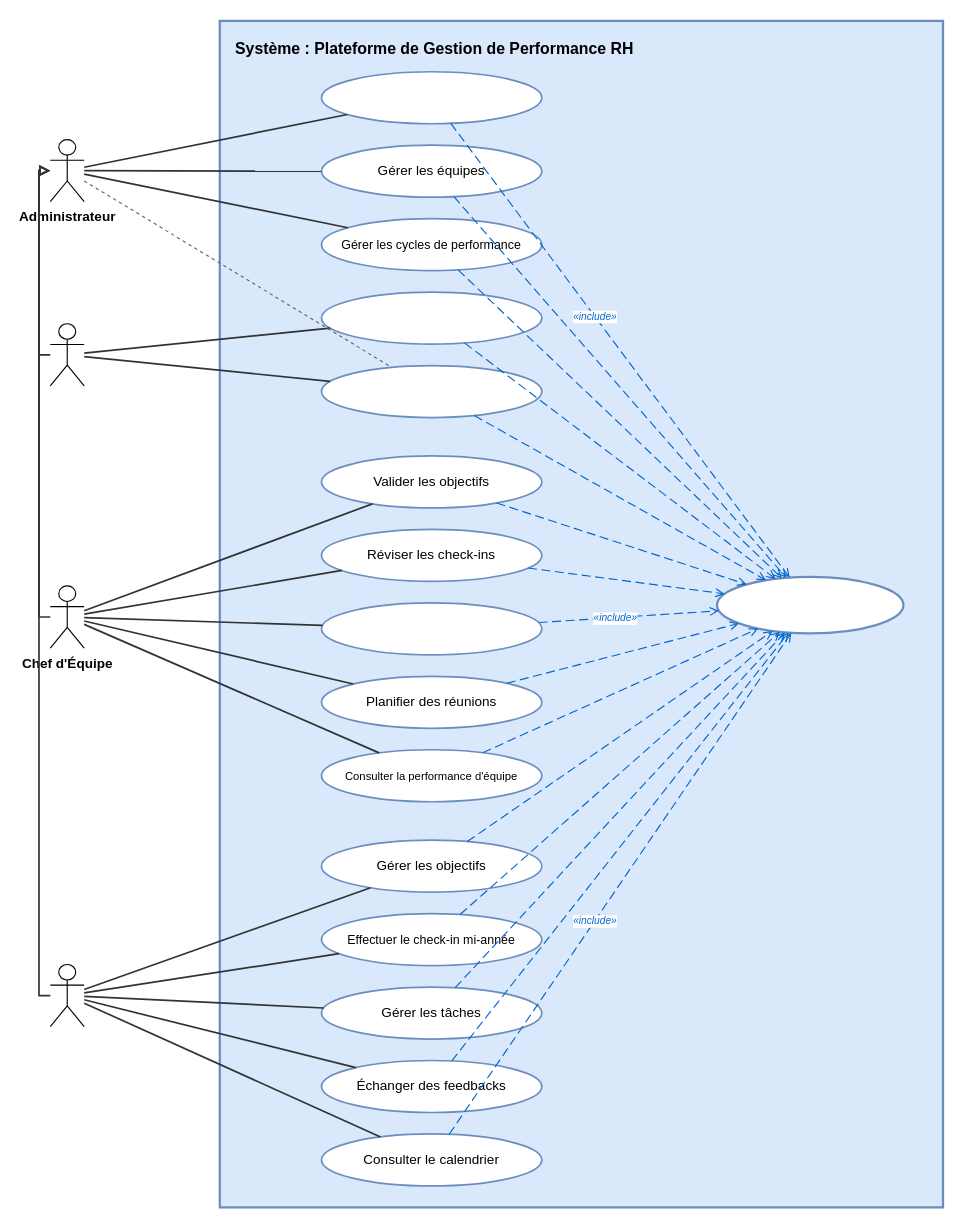
Some shapes in this 964 by 1227 pixel diagram are drawn without their labels. The centre of each missing label's shape, as x and y in pixels:
Collaborateur: (x=66, y=995)
Consulter les journaux d'audit: (x=431, y=391)
Consulter les rapports: (x=431, y=317)
Gérer les comptes utilisateurs: (x=431, y=97)
RH: (x=66, y=354)
S'authentifier: (x=809, y=604)
Évaluer un collaborateur: (x=431, y=628)
